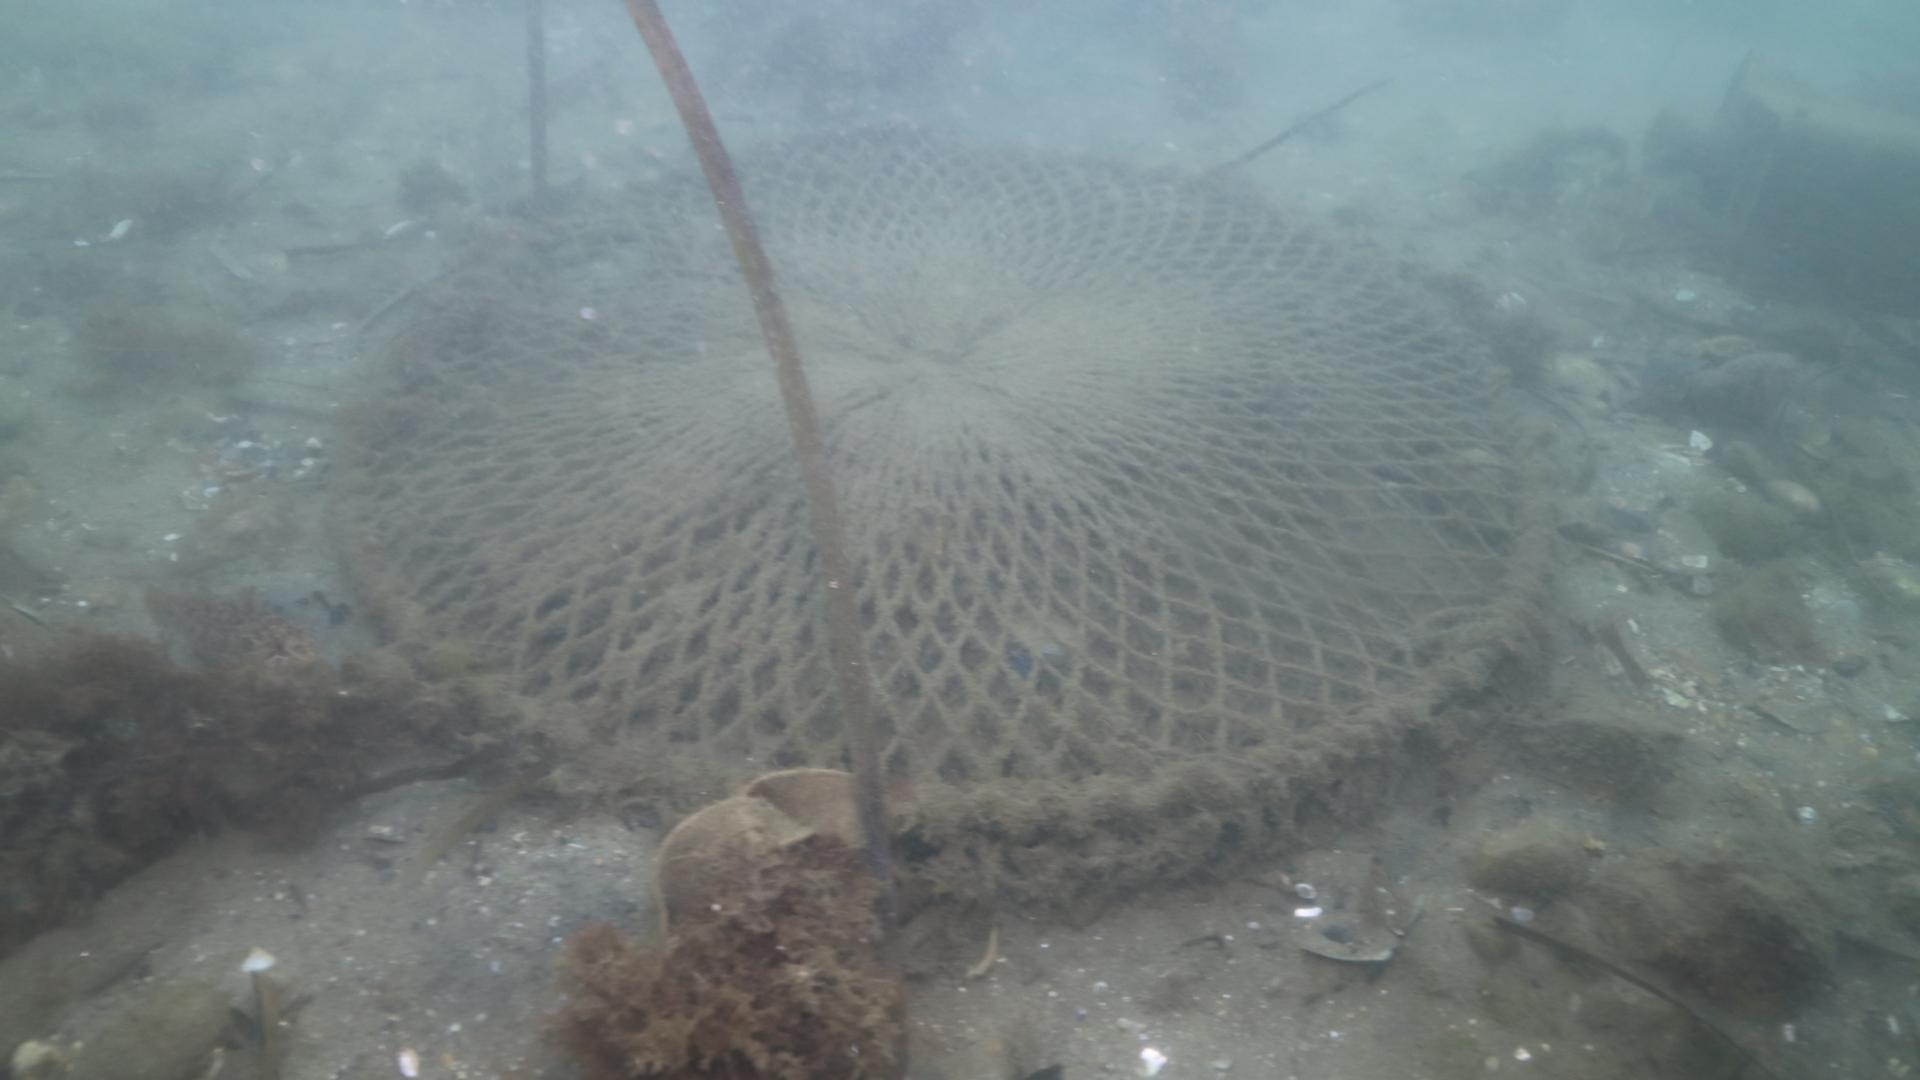circular fish trap: (320, 128, 1549, 905)
